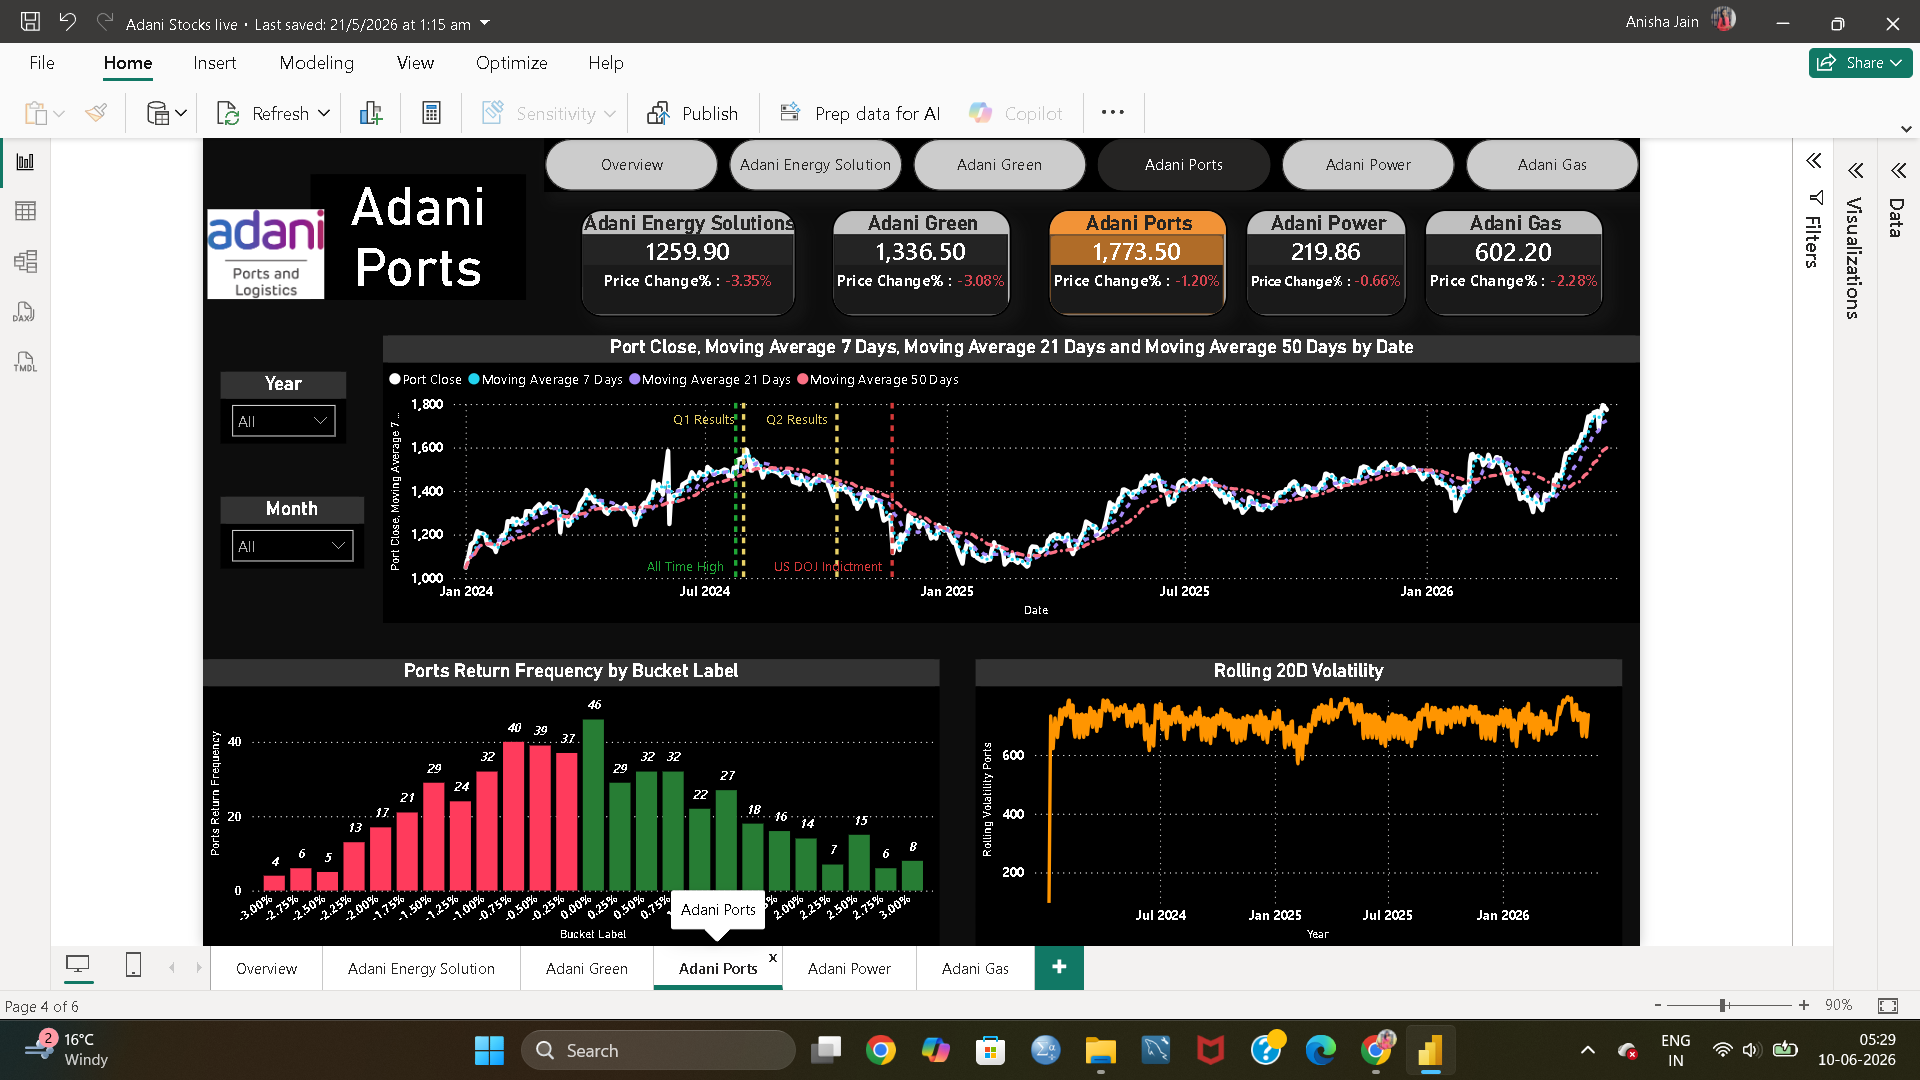

The dashboard page shown, as its layout file describes it:
{"tool":"powerbi","page":{"name":"Adani Ports","canvas":[1280,720],"ordinal":3},"visuals":[{"type":"cardVisual","title":"Adani Energy Solutions","fields":{"Data":["DAX Table.Current Price AENT"]},"box":[336,64,192,96],"z":0},{"type":"cardVisual","title":"Adani Power","fields":{"Data":["DAX Table.Current Price APOWER"]},"box":[928,64,144,96],"z":1000},{"type":"cardVisual","title":"Adani Ports ","fields":{"Data":["DAX Table.Current Price APorts"]},"box":[752,64,160,96],"z":2000},{"type":"cardVisual","title":"Adani Gas ","fields":{"Data":["DAX Table.Current Price ATotalGas"]},"box":[1088,64,160,96],"z":3000},{"type":"cardVisual","title":"Adani Green","fields":{"Data":["DAX Table.Current Price AGreen"]},"box":[560,64,160,96],"z":4000},{"type":"slicer","title":"Year","fields":{"Values":["Date Table.Year"]},"box":[16,208,112,64],"z":5000},{"type":"slicer","title":"Month","fields":{"Values":["Energy Solutions.Date.Variation.Date Hierarchy.Month"]},"box":[16,320,128,64],"z":6000},{"type":"pageNavigator","box":[304,0,976,48],"z":7000},{"type":"textbox","title":"Adani Ports","box":[96,32,192,112],"z":8000},{"type":"image","box":[0,64,112,80],"z":9000},{"type":"columnChart","fields":{"Category":["Green Return Buckets.Bucket Label"],"Y":["DAX Table.Ports Return Frequency"]},"box":[0,464,656,256],"z":10000},{"type":"lineChart","title":"Rolling 20D Volatility ","fields":{"Y":["DAX Table.Rolling Volatility Ports"],"Category":["Ports.Date.Variation.Date Hierarchy.Year","Ports.Date.Variation.Date Hierarchy.Month","Ports.Date.Variation.Date Hierarchy.Day"]},"box":[688,464,576,256],"z":11000},{"type":"lineChart","fields":{"Y":["Avg(Ports.Port Close)","MA.MA7 Port","MA.MA21 Port","MA.MA50 Port"],"Category":["Ports.Date"]},"box":[160,176,1120,256],"z":12000}]}

Visuals, with their boxes on the page's 1280x720 design canvas (x1, y1, x2, y2). These are canvas units, not pixel positions in the 1920x1080 screenshot, which may show the page scaled, cropped or inside an application window:
"Adani Energy Solutions" cardVisual: l=336, t=64, r=528, b=160
"Adani Power" cardVisual: l=928, t=64, r=1072, b=160
"Adani Ports " cardVisual: l=752, t=64, r=912, b=160
"Adani Gas " cardVisual: l=1088, t=64, r=1248, b=160
"Adani Green" cardVisual: l=560, t=64, r=720, b=160
"Year" slicer: l=16, t=208, r=128, b=272
"Month" slicer: l=16, t=320, r=144, b=384
pageNavigator: l=304, t=0, r=1280, b=48
"Adani Ports" textbox: l=96, t=32, r=288, b=144
image: l=0, t=64, r=112, b=144
columnChart - Green Return Buckets.Bucket Label x DAX Table.Ports Return Frequency: l=0, t=464, r=656, b=720
"Rolling 20D Volatility " lineChart: l=688, t=464, r=1264, b=720
lineChart - Avg(Ports.Port Close) x MA.MA7 Port: l=160, t=176, r=1280, b=432
